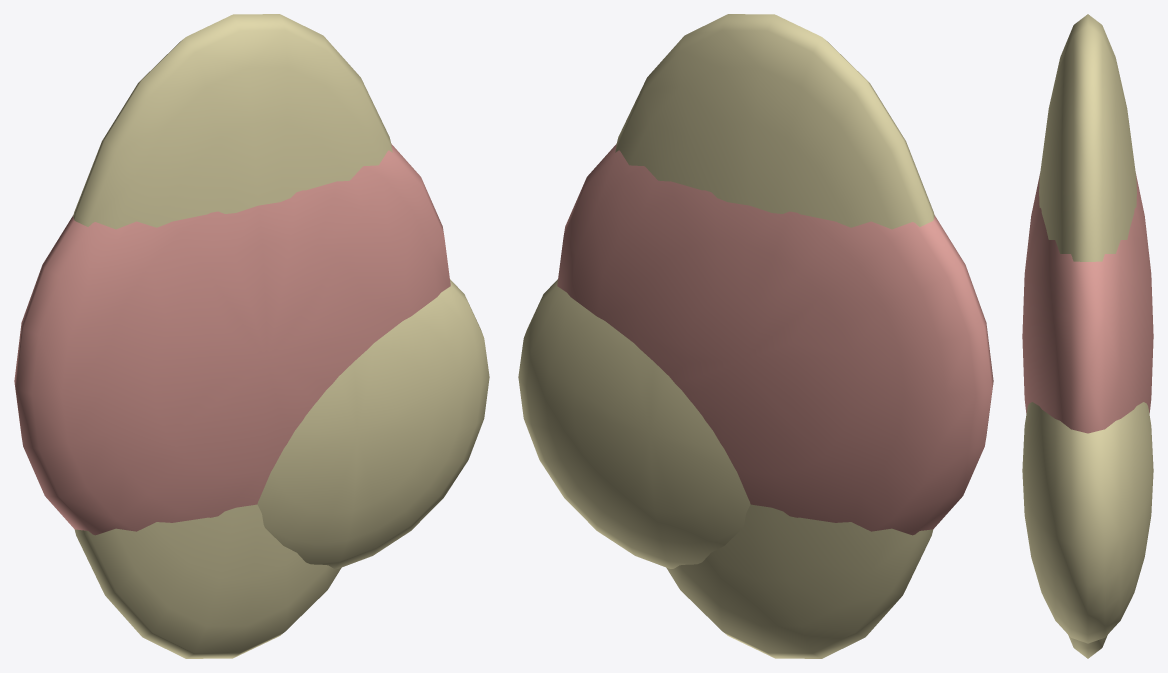
File: findings.glb
The picture shows the model from 3 angles, left to right: view 1: azimuth 30°, elevation 25°; view 2: azimuth 150°, elevation 25°; view 3: azimuth 270°, elevation 25°; orthographic projection. The views are drawn at different scales.
Parts seen in each view (by area): view 1: PRACTICE_secretion, PRACTICE_target; view 2: PRACTICE_secretion, PRACTICE_target; view 3: PRACTICE_secretion, PRACTICE_target.
Part boxes in pixels (x1,y1,x2,y2): PRACTICE_secretion: (73, 14, 489, 658); PRACTICE_target: (14, 144, 450, 535); PRACTICE_secretion: (518, 14, 934, 658); PRACTICE_target: (557, 144, 993, 535); PRACTICE_secretion: (1022, 14, 1153, 658); PRACTICE_target: (1022, 174, 1153, 433).
Size of the model in its own units: 5.2 by 6.8 by 1.3.
